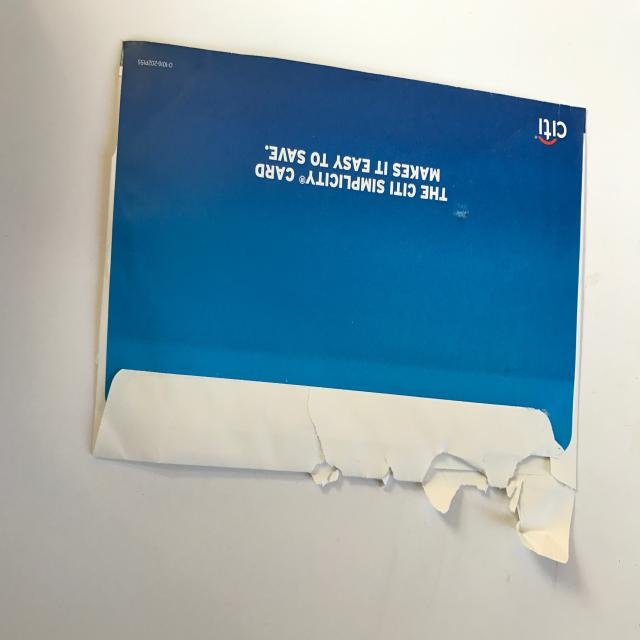paper: (82, 28, 593, 577)
